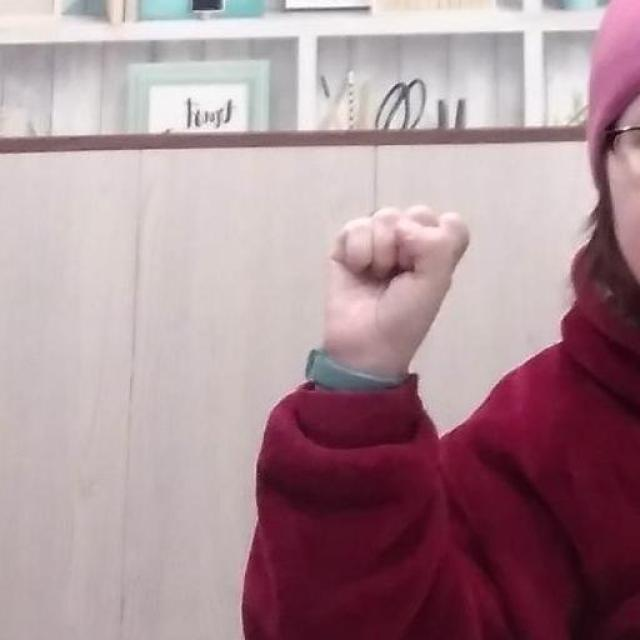hand: (320, 202, 470, 380)
